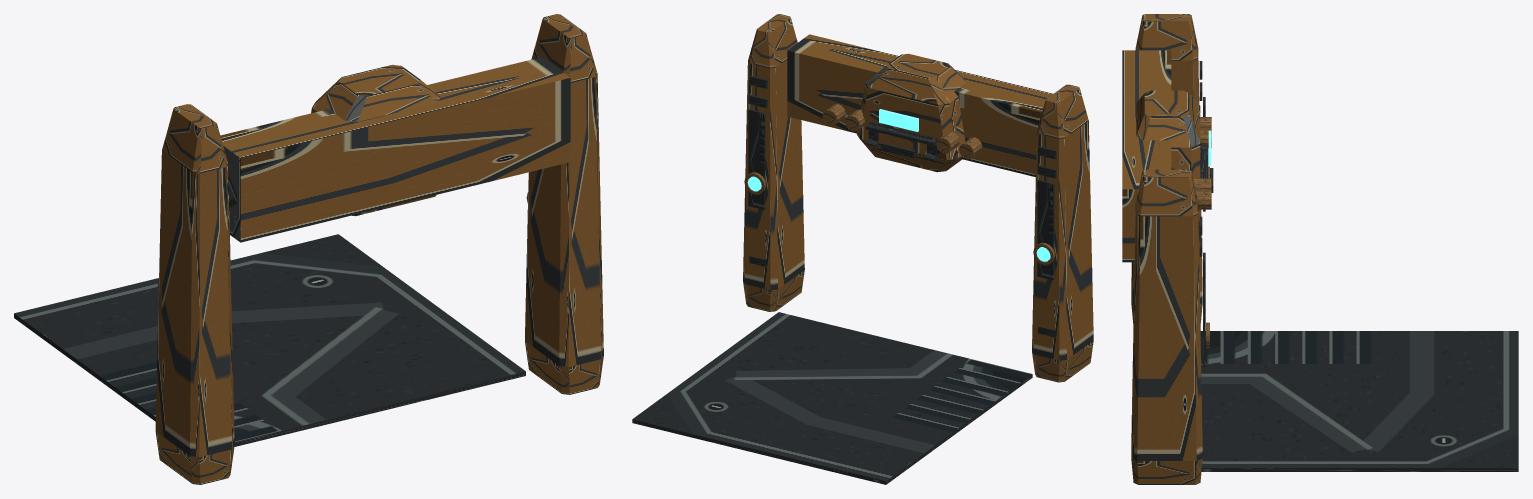
The model's file is station_ammo.glb.
3 views of the same model, side by side, from view 1: azimuth 30°, elevation 25°; view 2: azimuth 150°, elevation 25°; view 3: azimuth 270°, elevation 25° (orthographic). The views are drawn at different scales.
Parts seen in each view (by area): view 1: STProp_station_ammo_Body; view 2: STProp_station_ammo_Body; view 3: STProp_station_ammo_Body.
Boxes of the visible parts, <box> form: STProp_station_ammo_Body: <box>14,14,603,484</box>; STProp_station_ammo_Body: <box>632,14,1093,484</box>; STProp_station_ammo_Body: <box>1122,14,1518,484</box>.
Size of the model in its own units: 3.7 by 3.04 by 3.55.
Materials: 5 (4 with a texture image).
